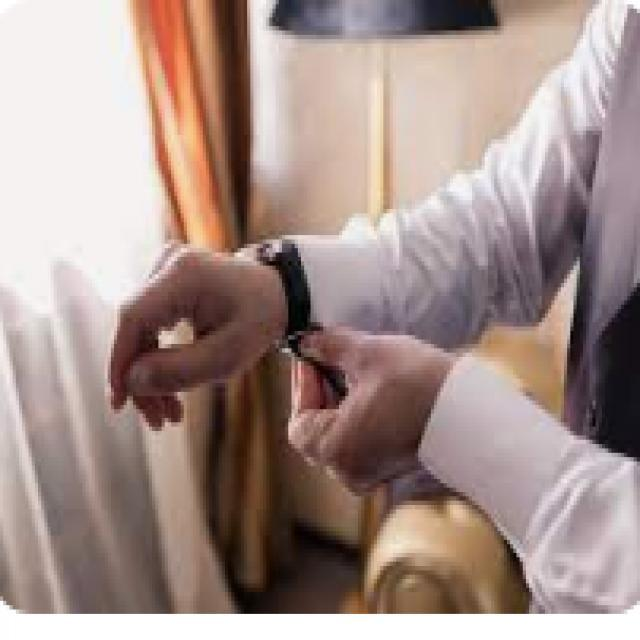Watch: (254, 234, 318, 344)
